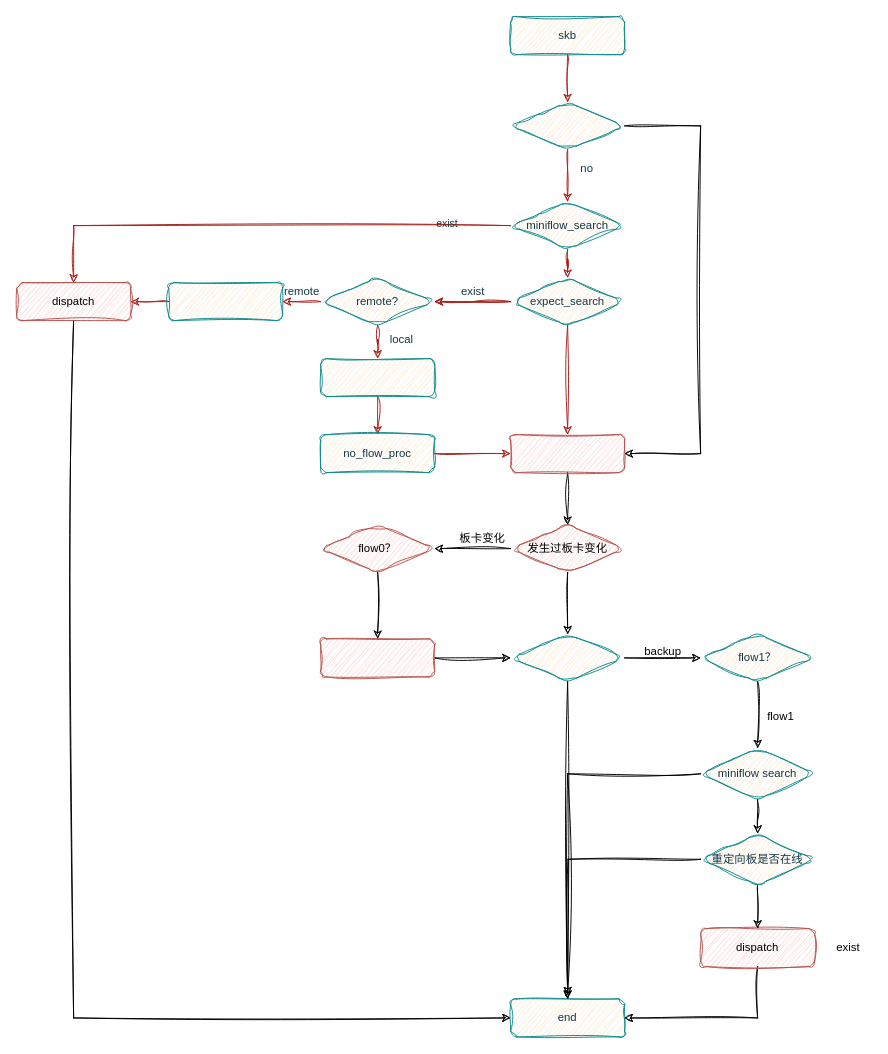
Some shapes in this 888 by 1054 pixel diagram are drawn without their labels. The shapes that lost their labels are listed below. From the top down, each one's centre as x and y in pixels, then its label:
At [567,125]: "flow_search".
At [225,301]: "add miniflow".
At [377,377]: "add expect".
At [567,453]: "flow_proc".
At [377,657]: "刷新 flow1 的 miniflow".
At [567,657]: "backup session".
